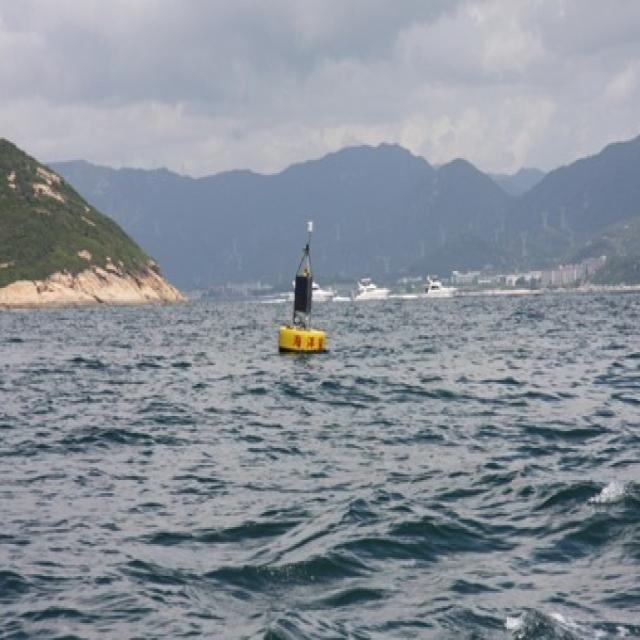buoy: (273, 218, 329, 353)
